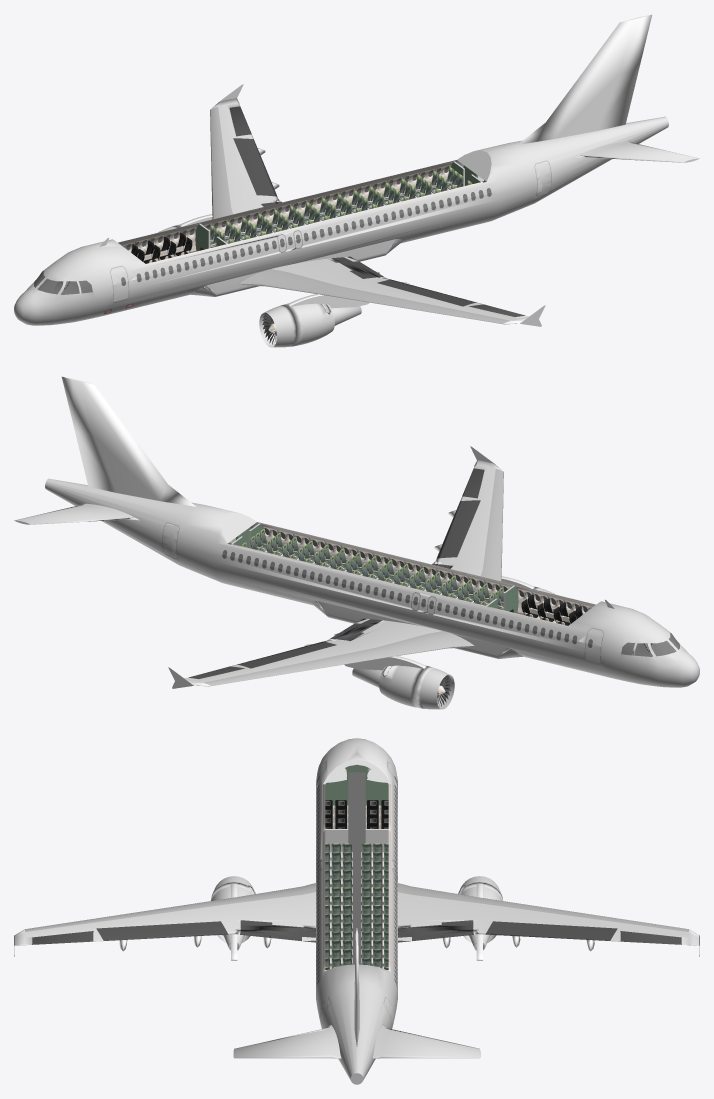
Rendered from boieng.glb.
The picture shows the model from 3 angles, top to bottom: view 1: azimuth 30°, elevation 25°; view 2: azimuth 150°, elevation 25°; view 3: azimuth 270°, elevation 25°; orthographic projection. The views are drawn at different scales.
Parts seen in each view (by area): view 1: G-__555645, Componente#8, Componente#5, Componente#8.001, Componente#6, G-__556545, Componente#24, G-__556554, Componente#52, Componente#27, G-__555654, Componente#12.001 (+1 smaller); view 2: G-__555645, Componente#8.001, Componente#5, Componente#8, Componente#6.001, G-__556545, Componente#24.001, G-__556572, Componente#52, Componente#27.001, G-__555654, Componente#12 (+1 smaller); view 3: G-__555645, Componente#8, Componente#8.001, G-__555654, Componente#24, Componente#24.001, Componente#52, Componente#6, Componente#6.001, Componente#37.002, Componente#5, Componente#37.001 (+4 smaller).
Boxes of the visible parts, <box> form: G-__555645: <box>14,116,668,325</box>; Componente#8: <box>239,256,528,324</box>; Componente#5: <box>517,14,652,144</box>; Componente#8.001: <box>210,98,281,219</box>; Componente#6: <box>259,303,361,347</box>; G-__556545: <box>191,239,402,296</box>; Componente#24: <box>574,141,699,162</box>; G-__556554: <box>287,282,409,308</box>; Componente#52: <box>181,223,228,251</box>; Componente#27: <box>37,278,92,294</box>; G-__555654: <box>119,154,487,264</box>; Componente#12.001: <box>109,265,129,302</box>; G-__555645: <box>45,478,699,687</box>; Componente#8.001: <box>185,618,474,686</box>; Componente#5: <box>61,376,196,506</box>; Componente#8: <box>432,460,503,581</box>; Componente#6.001: <box>352,665,454,709</box>; G-__556545: <box>311,601,522,658</box>; Componente#24.001: <box>14,503,139,524</box>; G-__556572: <box>304,644,426,670</box>; Componente#52: <box>486,585,532,613</box>; Componente#27.001: <box>621,640,676,656</box>; G-__555654: <box>226,516,594,626</box>; Componente#12: <box>584,627,604,664</box>; G-__555645: <box>316,738,397,1079</box>; Componente#8: <box>14,883,315,945</box>; Componente#8.001: <box>398,883,699,945</box>; G-__555654: <box>323,764,390,972</box>; Componente#24: <box>233,1024,341,1058</box>; Componente#24.001: <box>372,1024,480,1058</box>; Componente#52: <box>323,821,390,860</box>; Componente#6: <box>210,876,255,950</box>; Componente#6.001: <box>458,876,503,950</box>; Componente#37.002: <box>323,848,390,887</box>; Componente#5: <box>354,928,359,1046</box>; Componente#37.001: <box>323,839,390,878</box>.
Bounding box in the file's own units: 0.9661 × 0.2688 × 0.7778.
19 materials, 3 textured.
